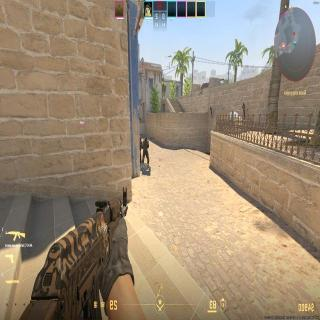CT-Body: (141, 136, 150, 164)
CT-Head: (144, 136, 147, 142)
